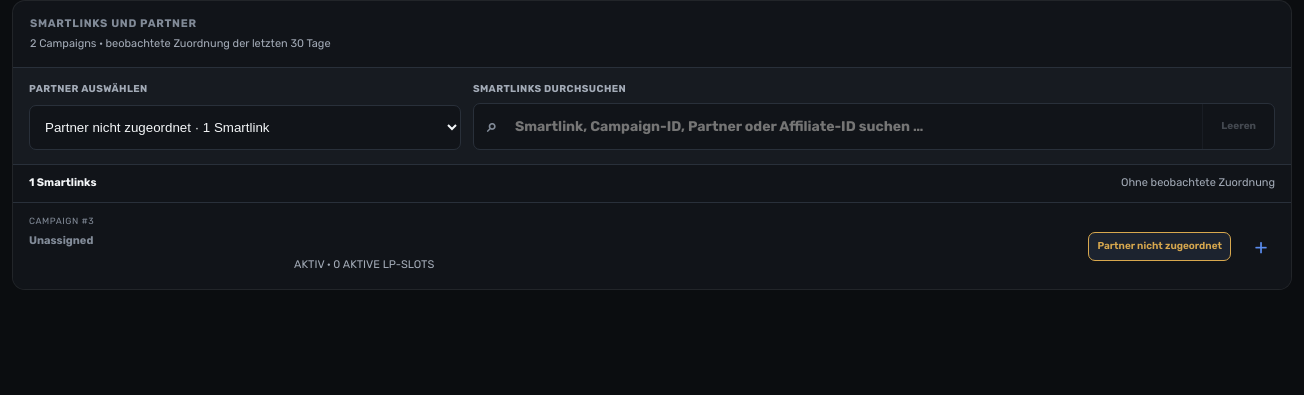
Test: honors live history while mounted and permits clearing a server-provided partner and disclosure
Expected: the field labelled "Smartlinks durchsuchen ⌕ Leeren" is empty, [510,104,1202,149]
Select "Alle Partner · 2 Smartlinks" in the dropdown labelled "Partner auswählen" at x=245, y=127, box [29,104,461,150]
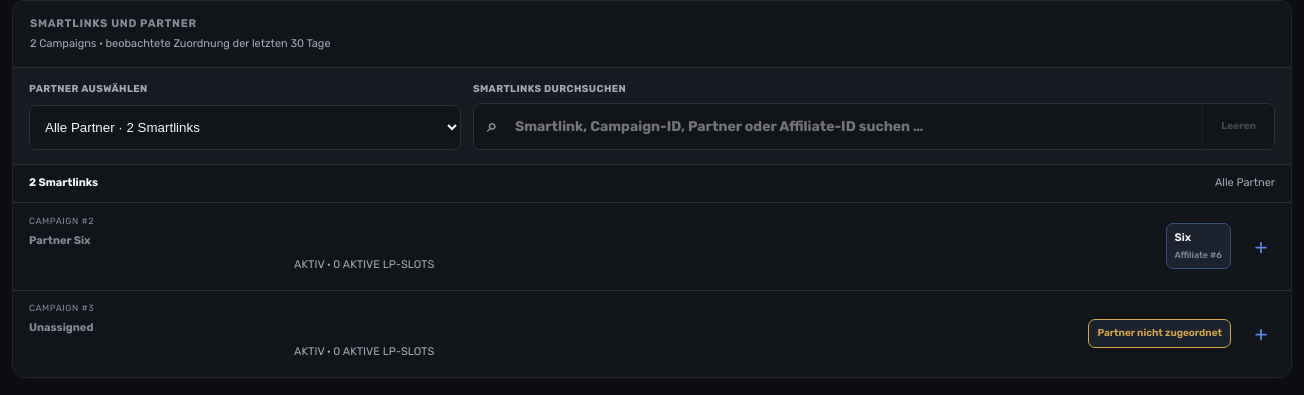
Expected: the text "Partner Six" is shown, [29,233,90,246]
